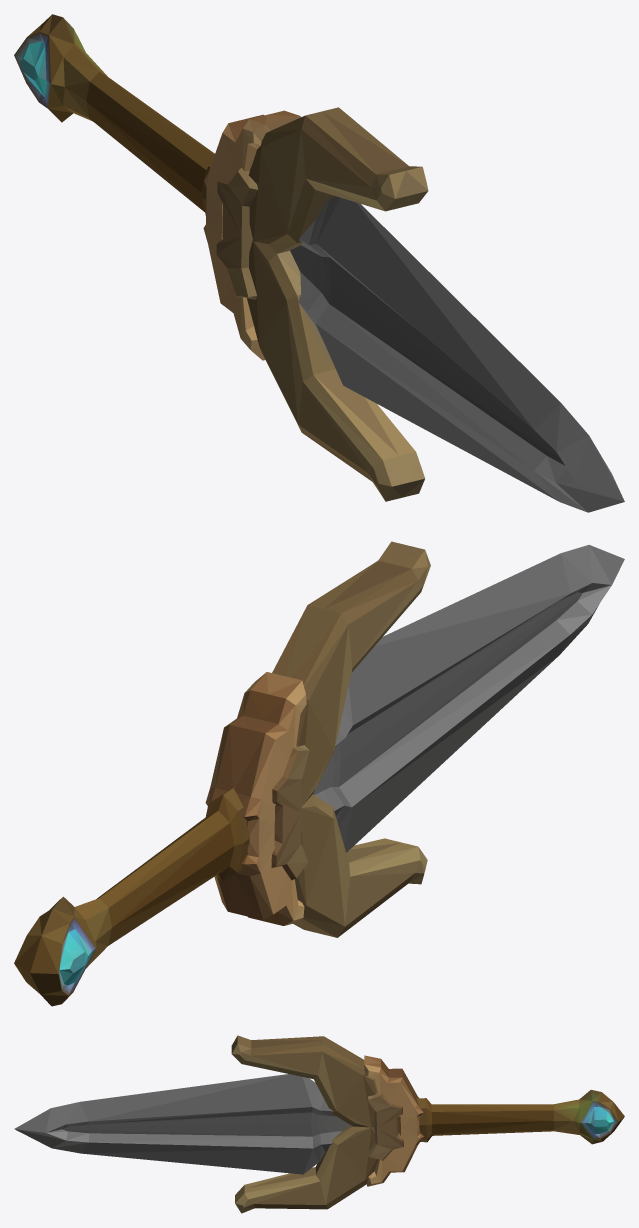
Rendered from weapon_sword_gold_3.fbx.
The picture shows the model from 3 angles, top to bottom: view 1: azimuth 30°, elevation 25°; view 2: azimuth 150°, elevation 25°; view 3: azimuth 270°, elevation 25°; orthographic projection. The views are drawn at different scales.
Visible parts, largest first — view 1: weapon_sword_gold_3; view 2: weapon_sword_gold_3; view 3: weapon_sword_gold_3.
Part boxes in pixels (x1=…): weapon_sword_gold_3: x1=14, y1=14, x2=624, y2=512; weapon_sword_gold_3: x1=14, y1=541, x2=624, y2=1006; weapon_sword_gold_3: x1=14, y1=1035, x2=624, y2=1213.
Size of the model in its own units: 0.1205 by 0.6536 by 2.13.
